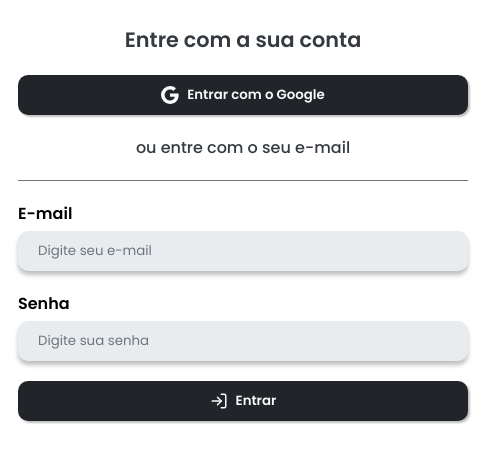
Test case: Login › should show an error if email and passowrd is not found
Type "lorem@ipsum.com" into the field with placeholder "Digite seu e-mail". click: (243, 250)
box: [18,230,468,270]
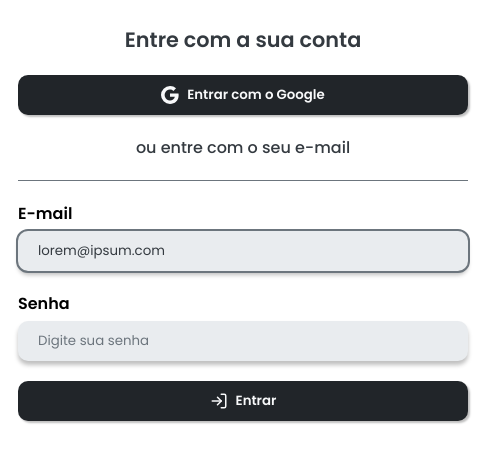
Type "123" into the password field with placeholder "Digite sua senha". click: (243, 340)
box: [18,320,468,360]
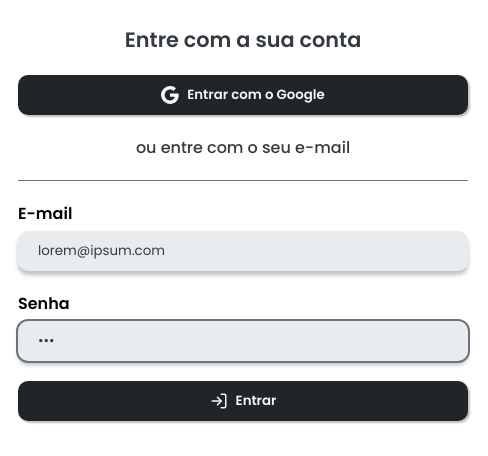
Click the button "Entrar". click: (243, 400)
box: [18,380,468,420]
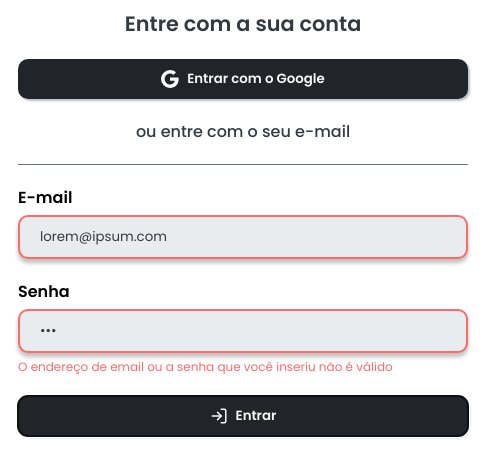
Now the text "O endereço de email ou a senha que você inseriu não é válido" is shown, box [18,358,393,375]
